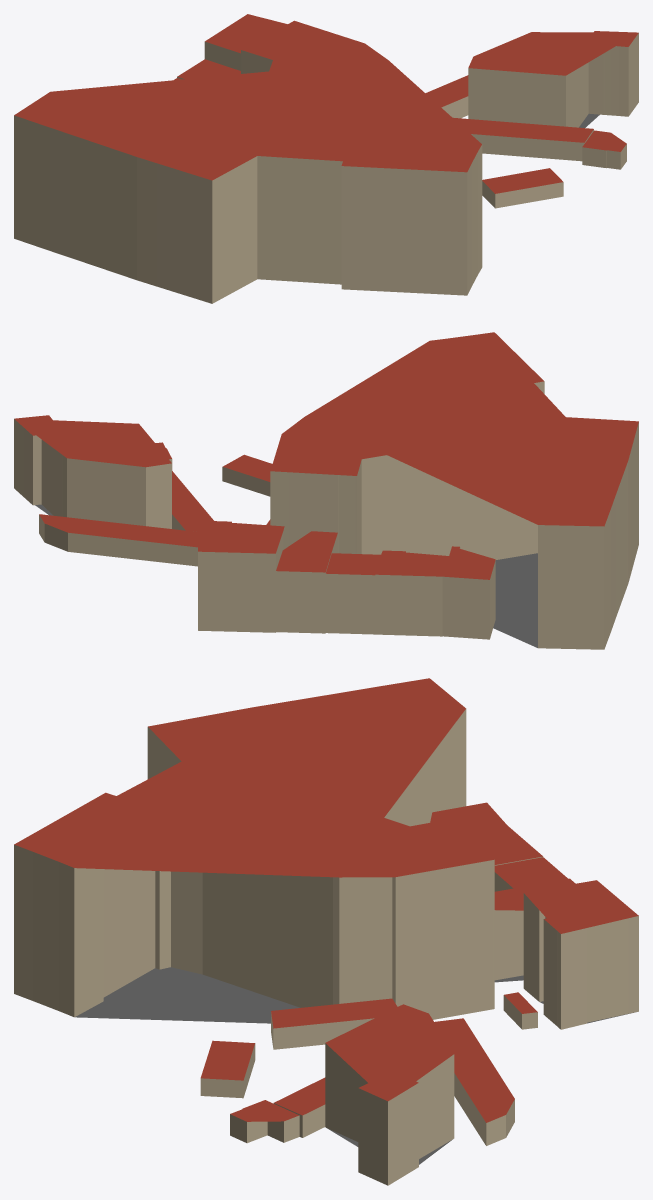
The model's file is ingolstadt_50_lod1_buildings.obj.
3 views of the same model, one above another, from view 1: azimuth 30°, elevation 25°; view 2: azimuth 150°, elevation 25°; view 3: azimuth 270°, elevation 25° (orthographic). The views are drawn at different scales.
Visible parts, largest first — view 1: bldg_DEBY_L2_4392429, bldg_DEBY_L2_107777145, bldg_DEBY_L2_4392842, bldg_DEBY_L2_4392841, bldg_DEBY_L2_4392510, bldg_DEBY_L2_4392882, bldg_DEBY_L2_104848284, bldg_DEBY_L2_4392436; view 2: bldg_DEBY_L2_4392429, bldg_DEBY_L2_107777145, bldg_DEBY_L2_4392510, bldg_DEBY_L2_4392434, bldg_DEBY_L2_104848284, bldg_DEBY_L2_4392436, bldg_DEBY_L2_4392432, bldg_DEBY_L2_4392435, bldg_DEBY_L2_4392841, bldg_DEBY_L2_4392842; view 3: bldg_DEBY_L2_4392429, bldg_DEBY_L2_107777145, bldg_DEBY_L2_4392510, bldg_DEBY_L2_104848284, bldg_DEBY_L2_4392840, bldg_DEBY_L2_4392436, bldg_DEBY_L2_4392841, bldg_DEBY_L2_4392882, bldg_DEBY_L2_4392842, bldg_DEBY_L2_4392434, bldg_DEBY_L2_4392435, bldg_DEBY_L2_4392432 (+1 smaller).
Boxes of the visible parts, x1=… form: bldg_DEBY_L2_4392429: x1=14, y1=20, x2=482, y2=303; bldg_DEBY_L2_107777145: x1=468, y1=31, x2=638, y2=127; bldg_DEBY_L2_4392842: x1=453, y1=117, x2=593, y2=161; bldg_DEBY_L2_4392841: x1=482, y1=168, x2=563, y2=208; bldg_DEBY_L2_4392510: x1=204, y1=14, x2=287, y2=70; bldg_DEBY_L2_4392882: x1=582, y1=130, x2=626, y2=169; bldg_DEBY_L2_104848284: x1=425, y1=75, x2=468, y2=118; bldg_DEBY_L2_4392436: x1=177, y1=59, x2=240, y2=79; bldg_DEBY_L2_4392429: x1=270, y1=332, x2=638, y2=649; bldg_DEBY_L2_107777145: x1=14, y1=415, x2=171, y2=528; bldg_DEBY_L2_4392510: x1=198, y1=520, x2=284, y2=632; bldg_DEBY_L2_4392434: x1=375, y1=550, x2=448, y2=636; bldg_DEBY_L2_104848284: x1=39, y1=514, x2=198, y2=566; bldg_DEBY_L2_4392436: x1=276, y1=531, x2=337, y2=633; bldg_DEBY_L2_4392432: x1=442, y1=546, x2=495, y2=639; bldg_DEBY_L2_4392435: x1=325, y1=553, x2=380, y2=634; bldg_DEBY_L2_4392841: x1=222, y1=454, x2=272, y2=496; bldg_DEBY_L2_4392842: x1=172, y1=471, x2=213, y2=531; bldg_DEBY_L2_4392429: x1=14, y1=678, x2=494, y2=1023; bldg_DEBY_L2_107777145: x1=325, y1=1004, x2=454, y2=1185; bldg_DEBY_L2_4392510: x1=523, y1=880, x2=638, y2=1029; bldg_DEBY_L2_104848284: x1=434, y1=1018, x2=514, y2=1145; bldg_DEBY_L2_4392840: x1=271, y1=998, x2=397, y2=1049; bldg_DEBY_L2_4392436: x1=494, y1=878, x2=575, y2=982; bldg_DEBY_L2_4392841: x1=200, y1=1040, x2=255, y2=1098; bldg_DEBY_L2_4392882: x1=230, y1=1100, x2=299, y2=1143; bldg_DEBY_L2_4392842: x1=273, y1=1077, x2=325, y2=1137; bldg_DEBY_L2_4392434: x1=468, y1=825, x2=543, y2=865; bldg_DEBY_L2_4392435: x1=494, y1=857, x2=567, y2=891; bldg_DEBY_L2_4392432: x1=430, y1=802, x2=506, y2=832.
Size of the model in its own units: 113 by 22.01 by 83.49.
